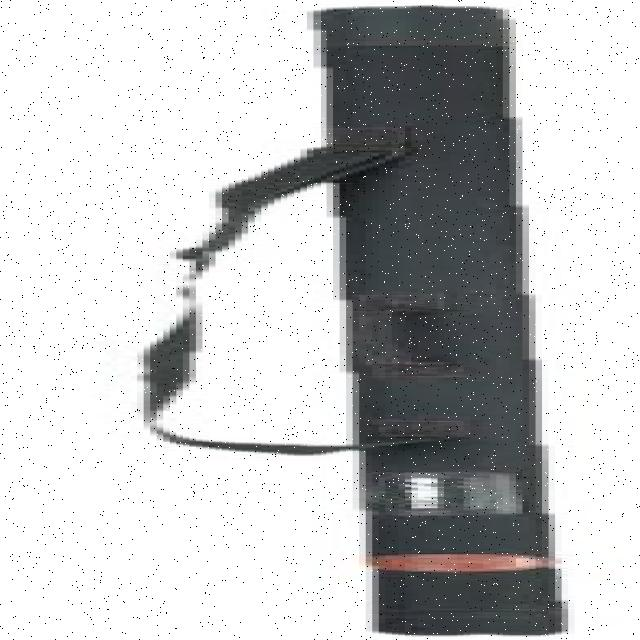bazooka: (272, 7, 609, 640)
